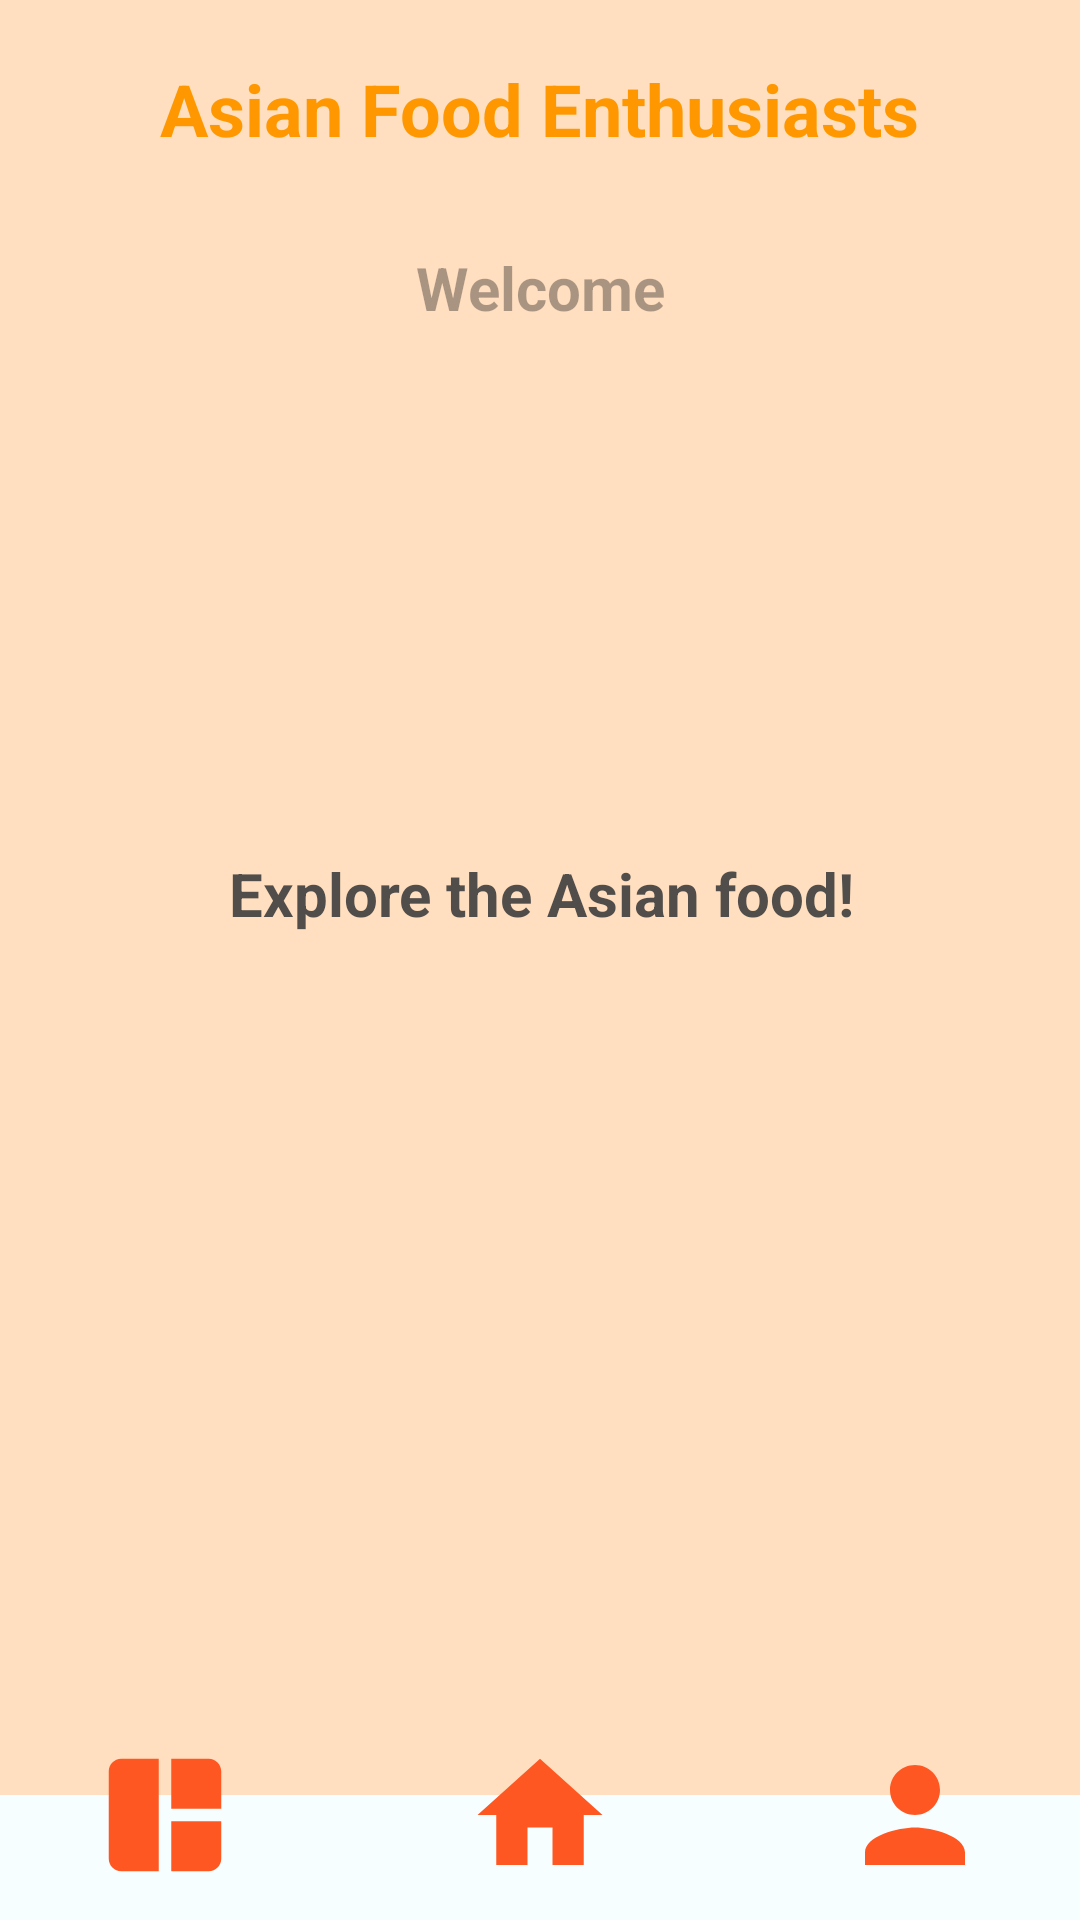

Named icons in this screenshot (1080 × 1920) and their centers, (x=x, y=y):
categories: (x=165, y=1815)
home: (x=540, y=1815)
personx: (x=915, y=1815)
